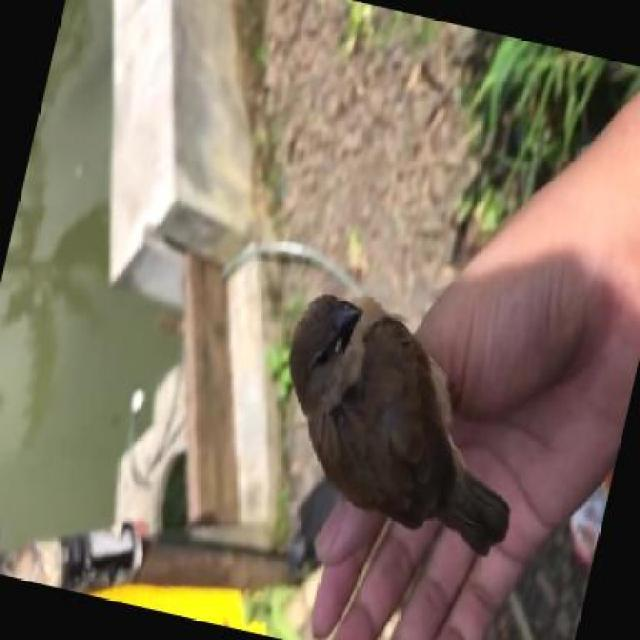Bird: (229, 252, 557, 563)
